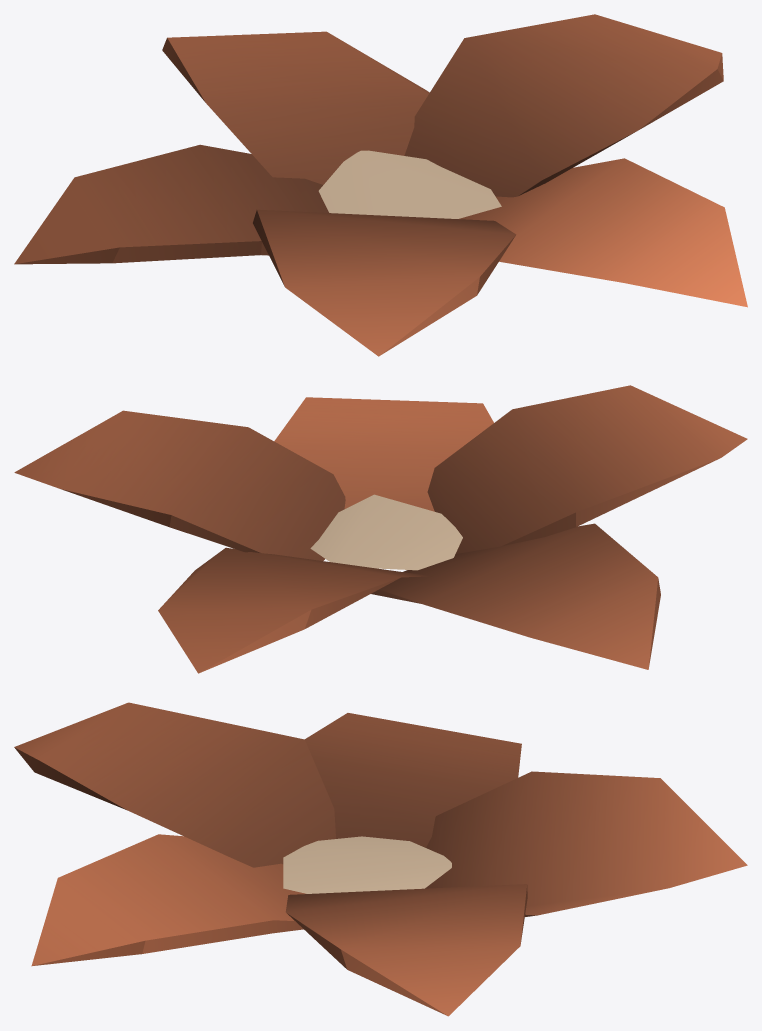
The model's file is Autumn_Flower_04.glb.
3 views of the same model, one above another, from view 1: azimuth 30°, elevation 25°; view 2: azimuth 150°, elevation 25°; view 3: azimuth 270°, elevation 25° (orthographic). The views are drawn at different scales.
Visible parts, largest first — view 1: Autumn_Flower_04_LOD0; view 2: Autumn_Flower_04_LOD0; view 3: Autumn_Flower_04_LOD0.
Part boxes in pixels (x1,y1,x2,y2): Autumn_Flower_04_LOD0: [14, 14, 747, 356]; Autumn_Flower_04_LOD0: [14, 385, 747, 673]; Autumn_Flower_04_LOD0: [14, 702, 747, 1016].
Size of what is drawn, in the model's own units: 0.292 by 0.044 by 0.2825.
Materials: 1 (1 with a texture image).
